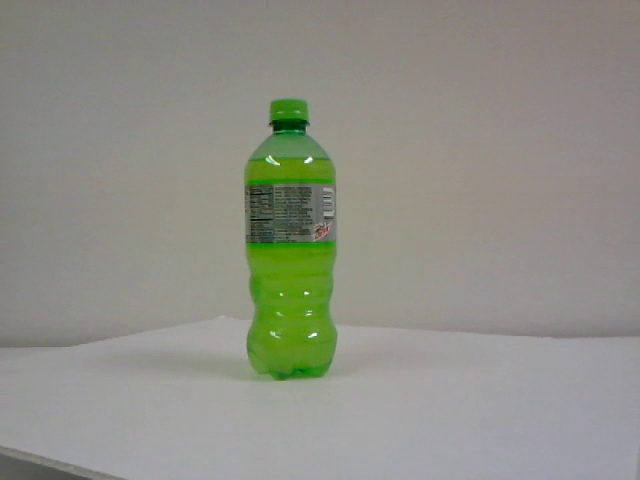botolplastik: (244, 100, 337, 378)
